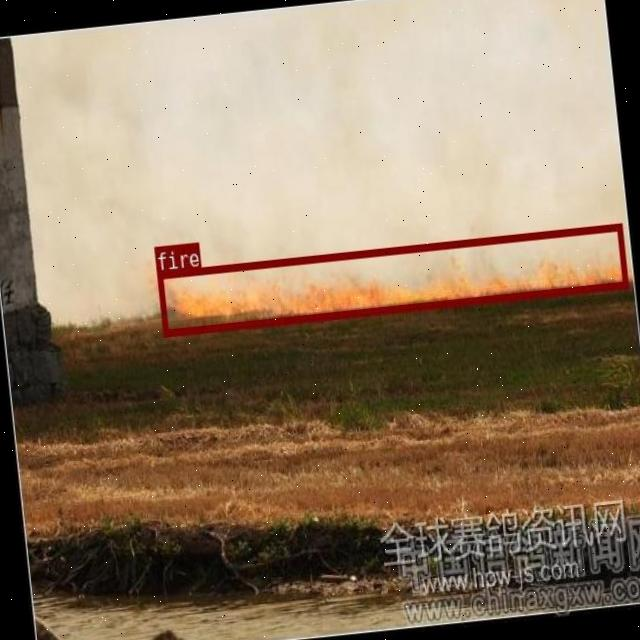fire: (155, 223, 627, 335)
